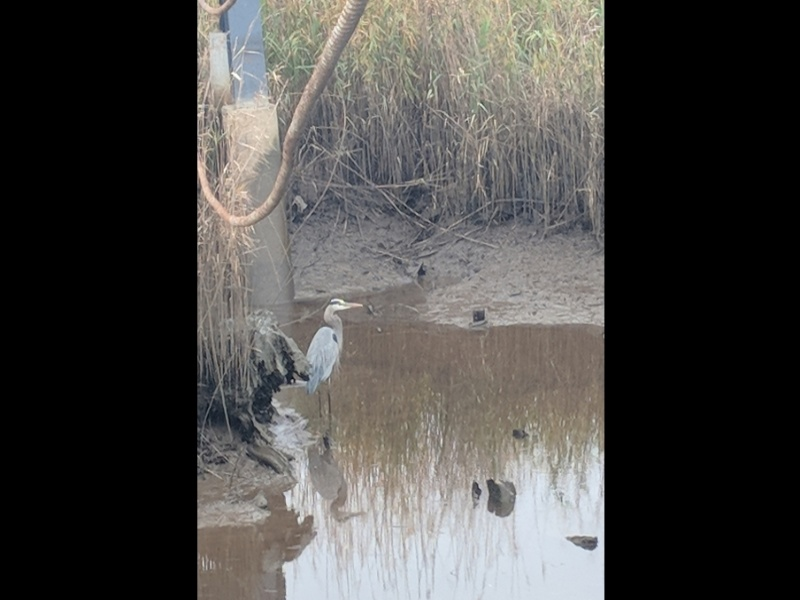heron: (301, 292, 365, 442)
